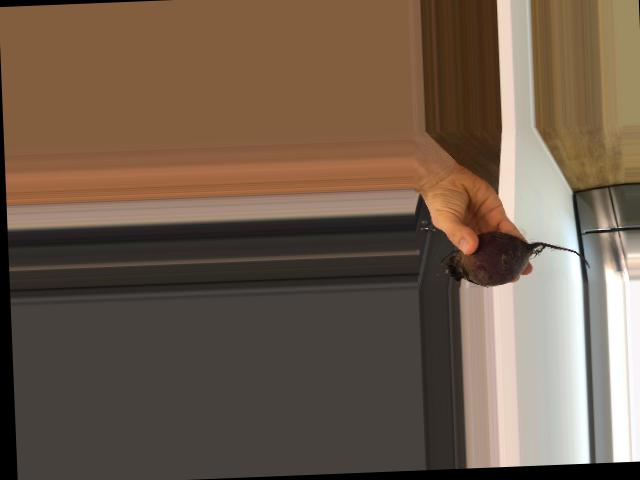beet: (439, 228, 590, 288)
